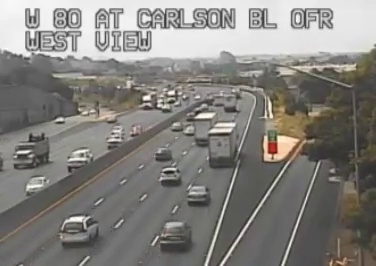car: (59, 216, 98, 243), (160, 222, 190, 247), (187, 186, 208, 203), (159, 167, 180, 183), (154, 148, 170, 160)
truck: (208, 122, 237, 166), (194, 112, 217, 143)
